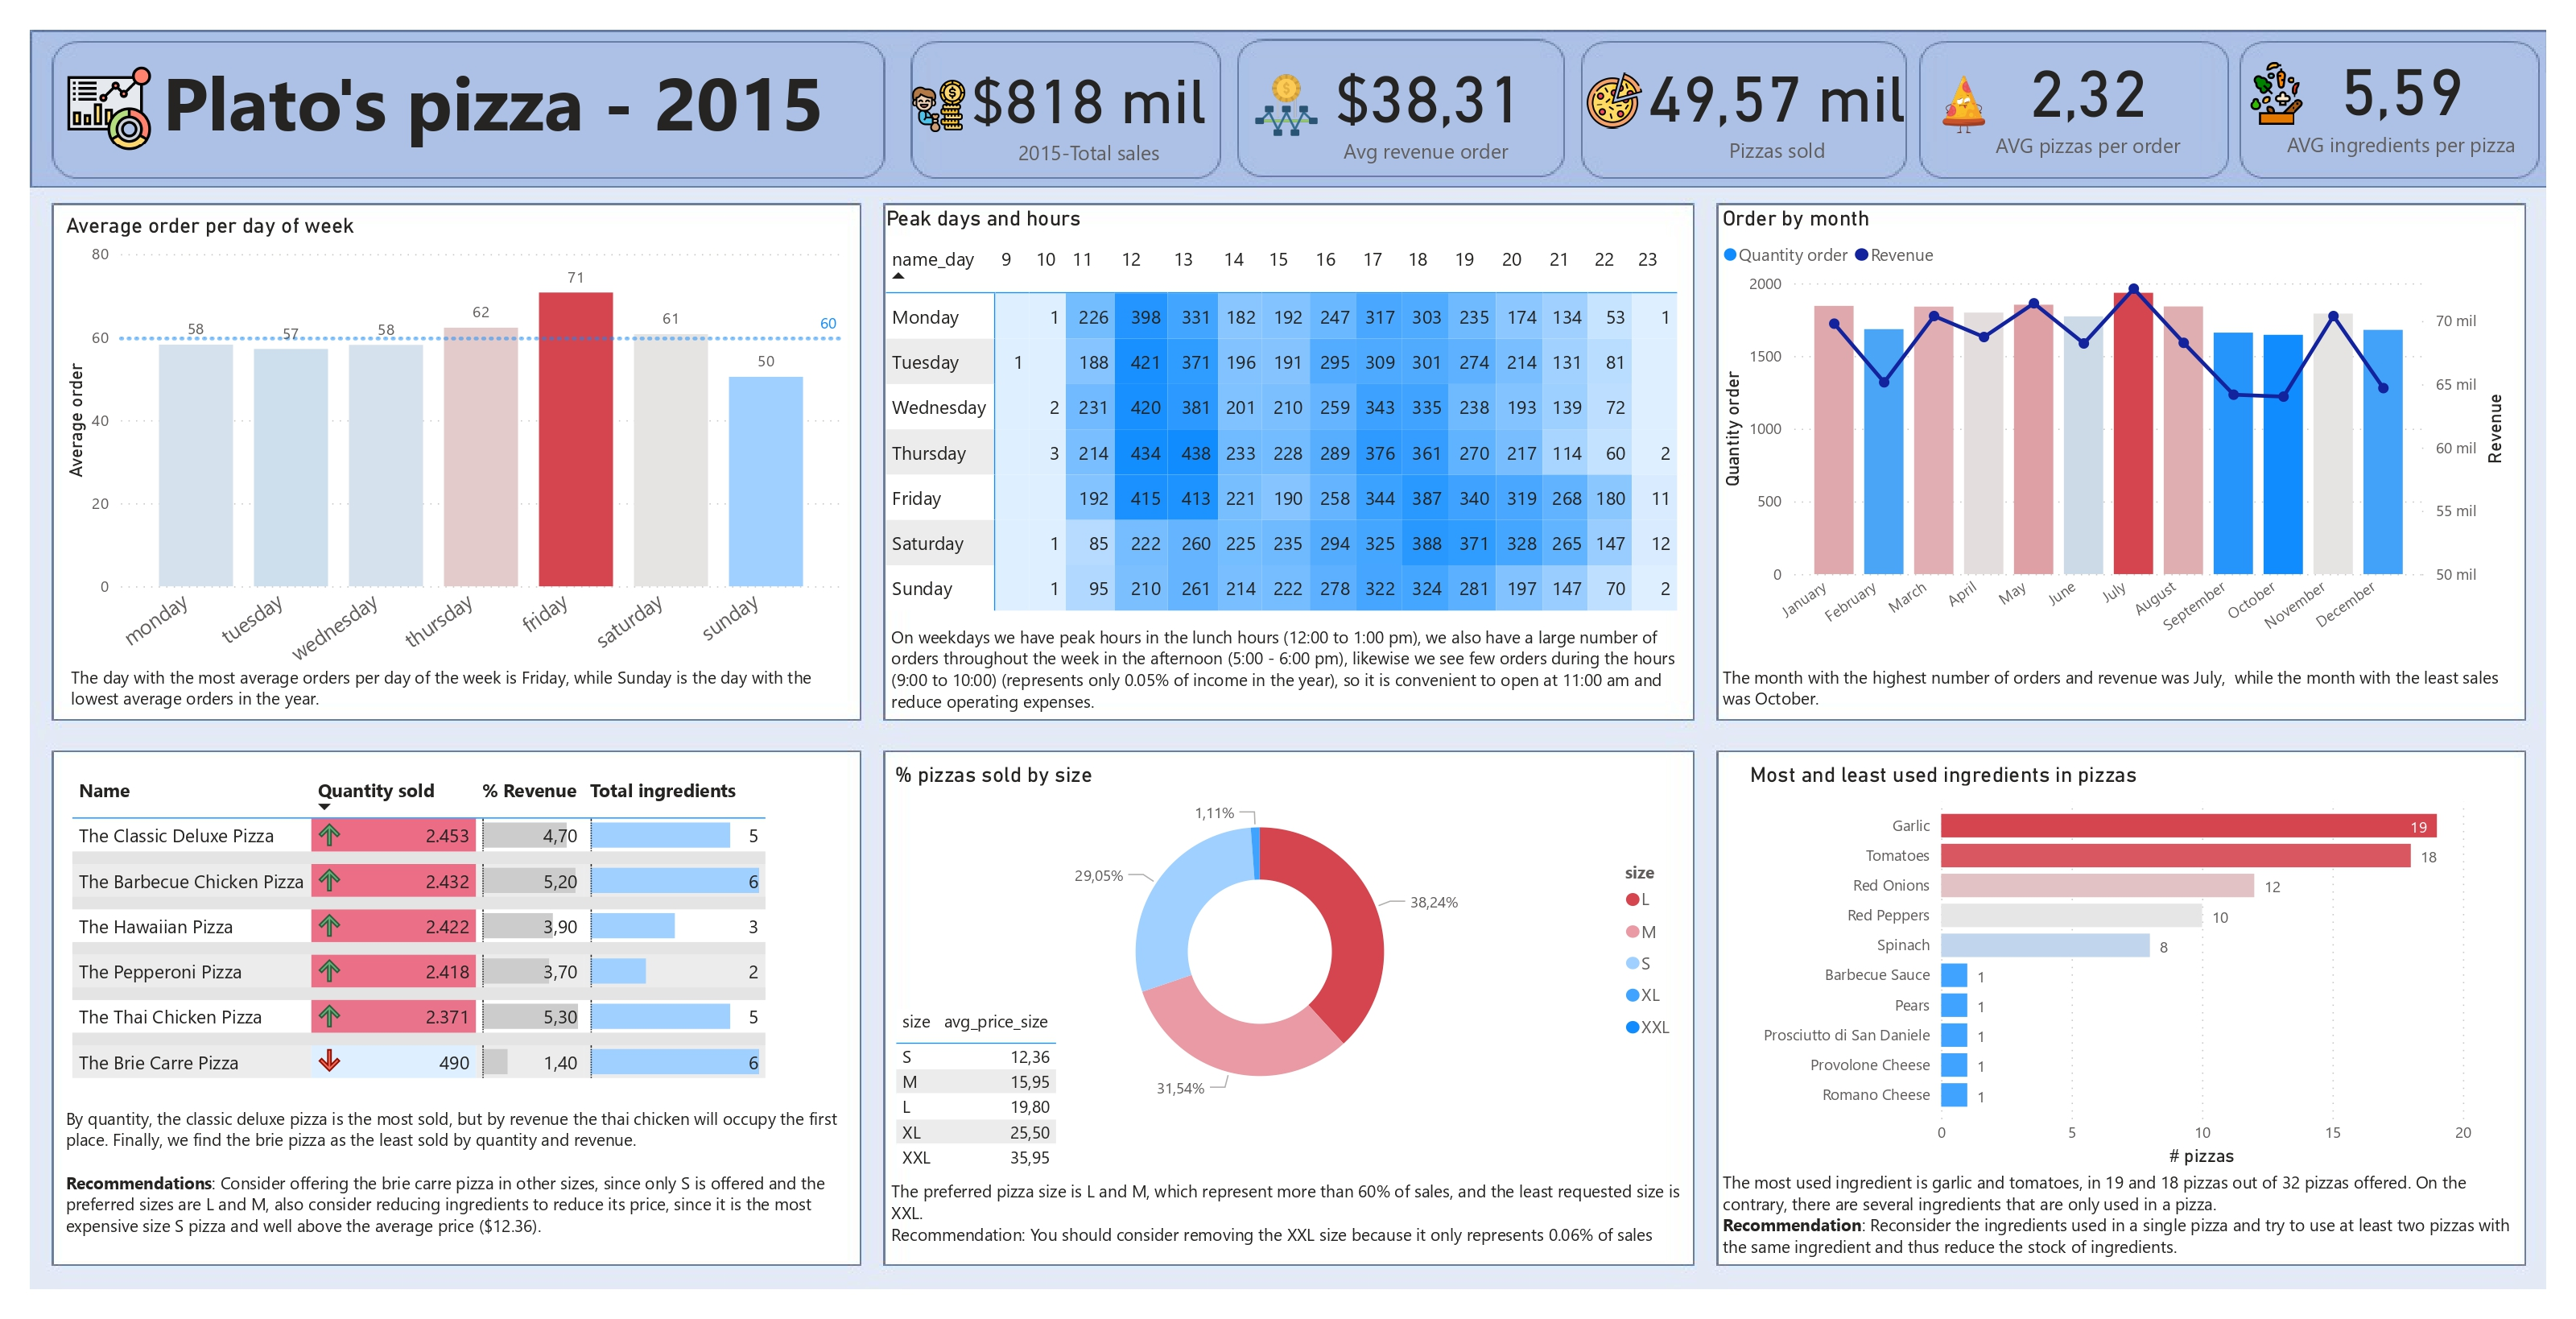

The dashboard page shown, as its layout file describes it:
{"tool":"powerbi","page":{"name":"Página 1","canvas":[2000,1000],"ordinal":0},"visuals":[{"type":"card","title":"AVG Per Order","fields":{"Values":["Sum(Prom_pedido.PROMEDIO POR PEDIDO)"]},"box":[1018.6,4.3,185.7,108.6],"z":0},{"type":"card","title":"Total sales/year","fields":{"Values":["Sum(Consulta1.TOTAL_VENTAS)"]},"box":[734.3,4.3,214.3,114.3],"z":1000},{"type":"card","title":"AVG pizza per order","fields":{"Values":["Sum(Consulta1.AVG(cant_pizzas))"]},"box":[1550,0,171.4,108.6],"z":2000},{"type":"columnChart","title":"Average order per day of week","fields":{"Category":["AVG_PER_WEEK_DAY.dia_name"],"Y":["Avg(AVG_PER_WEEK_DAY.avg_day_week)"]},"box":[22.5,145.1,628.2,381.7],"z":3000},{"type":"textbox","box":[100,11.3,580.3,94.4],"z":4000},{"type":"pivotTable","title":"Peak days and hours","fields":{"Rows":["horas_dias.name_day"],"Values":["Sum(horas_dias.num_ordenes)"],"Columns":["horas_dias.hora_day"]},"box":[675.4,138.5,664.6,330.8],"z":5000},{"type":"donutChart","title":"% pizzas sold by size","fields":{"Category":["Consulta1.size"],"Y":["Avg(Consulta1.percentaje)"],"Series":["size.avg_price_size"]},"box":[683.1,581.5,635.4,283.1],"z":6000},{"type":"card","title":"# Pizza sold","fields":{"Values":["Sum(Total_pizzas.quantity)"]},"box":[1272.9,4.3,232.9,108.6],"z":7000},{"type":"textbox","box":[27.7,500,620,64.6],"z":8000},{"type":"textbox","box":[680,468.6,635.7,95.7],"z":9000},{"type":"textbox","box":[23.1,850,630.8,132.7],"z":10000},{"type":"tableEx","fields":{"Values":["top5.name","Sum(top5.total_vendidas)","Sum(porcentaje_vnetas.per_sold)","Sum(porcentaje_vnetas.total_ingredientes)"]},"box":[27.1,585.7,642.9,274.3],"z":11000},{"type":"card","title":"AVG ing per pizza","fields":{"Values":["Sum(avg_ingredientes.avg)"]},"box":[1787.1,0,195.7,107.1],"z":12000},{"type":"textbox","box":[680,908.6,638.6,74.3],"z":13000},{"type":"clusteredBarChart","title":"Most and least used ingredients in pizzas","fields":{"Category":["ingredientes.ingredients"],"Y":["Sum(ingredientes.usado_by_pizza)"]},"box":[1369.7,575.8,572.7,325.8],"z":14000},{"type":"textbox","box":[1340,901.4,642.9,98.6],"z":15000},{"type":"image","box":[22.5,11.3,78.9,101.4],"z":16000},{"type":"image","box":[1505.7,20,62.9,77.1],"z":17000},{"type":"image","box":[1755.7,20,61.4,60],"z":18000},{"type":"image","box":[695.7,24.3,52.9,71.4],"z":19000},{"type":"image","box":[965.7,28.6,67.1,61.4],"z":20000},{"type":"image","box":[1224.3,28.6,70,54.3],"z":21000},{"type":"lineClusteredColumnComboChart","title":"Order by month","fields":{"Category":["orden_mes.Mes"],"Y2":["Sum(INGRESOS_MES.TOTAL_VENTAS)"],"Y":["Sum(orden_mes.count(order_id))"]},"box":[1340,138.6,631.4,361.4],"z":22000},{"type":"textbox","box":[100,100,300,300],"z":23000},{"type":"textbox","box":[100,100,300,300],"z":24000},{"type":"textbox","box":[100,100,300,300],"z":25000},{"type":"textbox","box":[1340.4,500,642.3,65.4],"z":26000},{"type":"tableEx","fields":{"Values":["size.size","size.avg_price_size"]},"box":[683.1,772.3,143.1,140],"z":27000}]}

Visuals, with their boxes in screenshot pixels (x1, y1, x2, y2):
"AVG Per Order" card: 1311:35:1545:172
"Total sales/year" card: 954:35:1224:180
"AVG pizza per order" card: 1979:31:2195:167
"Average order per day of week" columnChart: 59:213:848:693
textbox: 156:44:885:163
"Peak days and hours" pivotTable: 880:205:1715:621
"% pizzas sold by size" donutChart: 890:762:1689:1118
"# Pizza sold" card: 1631:35:1924:172
textbox: 65:659:845:741
textbox: 885:620:1685:740
textbox: 60:1100:852:1267
tableEx - top5.name x Sum(top5.total_vendidas): 64:767:873:1113
"AVG ing per pizza" card: 2278:31:2524:165
textbox: 885:1174:1689:1267
"Most and least used ingredients in pizzas" clusteredBarChart: 1753:755:2473:1165
textbox: 1715:1164:2524:1288
image: 59:44:158:172
image: 1924:56:2003:152
image: 2239:56:2316:131
image: 906:60:972:151
image: 1245:66:1329:143
image: 1570:66:1658:134
"Order by month" lineClusteredColumnComboChart: 1715:205:2510:659
textbox: 156:156:533:534
textbox: 156:156:533:534
textbox: 156:156:533:534
textbox: 1716:659:2524:742
tableEx - size.size x size.avg_price_size: 890:1003:1069:1178
